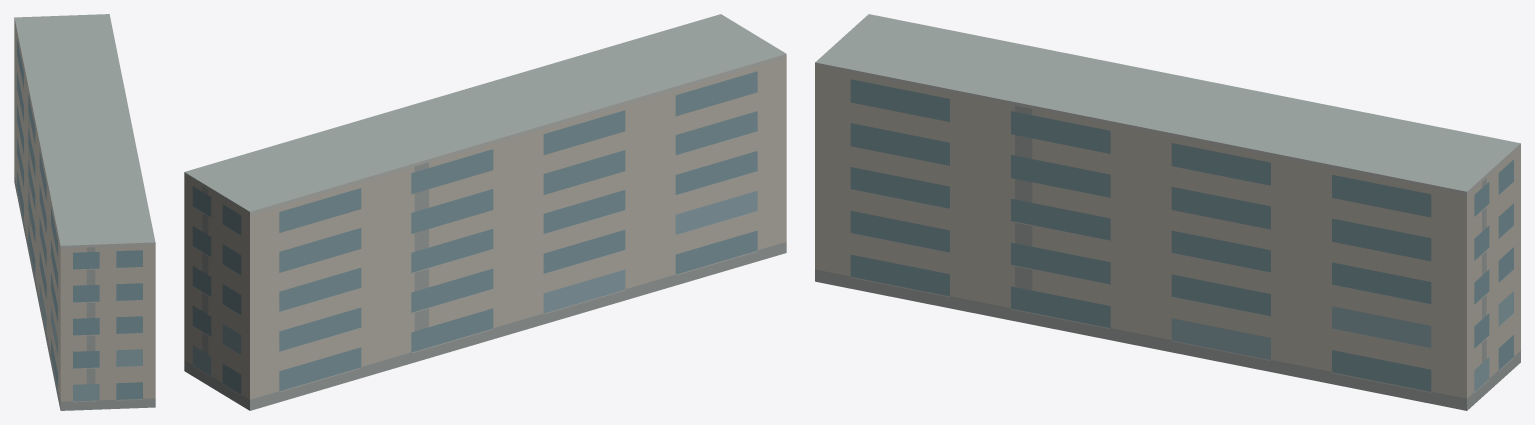
Rendered from residential-b3ba3db2-bc5d-4d43-885c-c0b24560073a.glb.
3 views of the same model, side by side, from view 1: azimuth 30°, elevation 25°; view 2: azimuth 150°, elevation 25°; view 3: azimuth 270°, elevation 25° (orthographic). The views are drawn at different scales.
Parts seen in each view (by area): view 1: residential-b3ba3db2-bc5d-4d43-885c-c0b24560073a.tmp; view 2: residential-b3ba3db2-bc5d-4d43-885c-c0b24560073a.tmp; view 3: residential-b3ba3db2-bc5d-4d43-885c-c0b24560073a.tmp.
Boxes of the visible parts, x1,y1,x2,y2 form: residential-b3ba3db2-bc5d-4d43-885c-c0b24560073a.tmp: (14, 14, 155, 410); residential-b3ba3db2-bc5d-4d43-885c-c0b24560073a.tmp: (184, 14, 786, 410); residential-b3ba3db2-bc5d-4d43-885c-c0b24560073a.tmp: (815, 14, 1520, 410).
Bounding box in the file's own units: 26.54 × 15.25 × 44.52.
